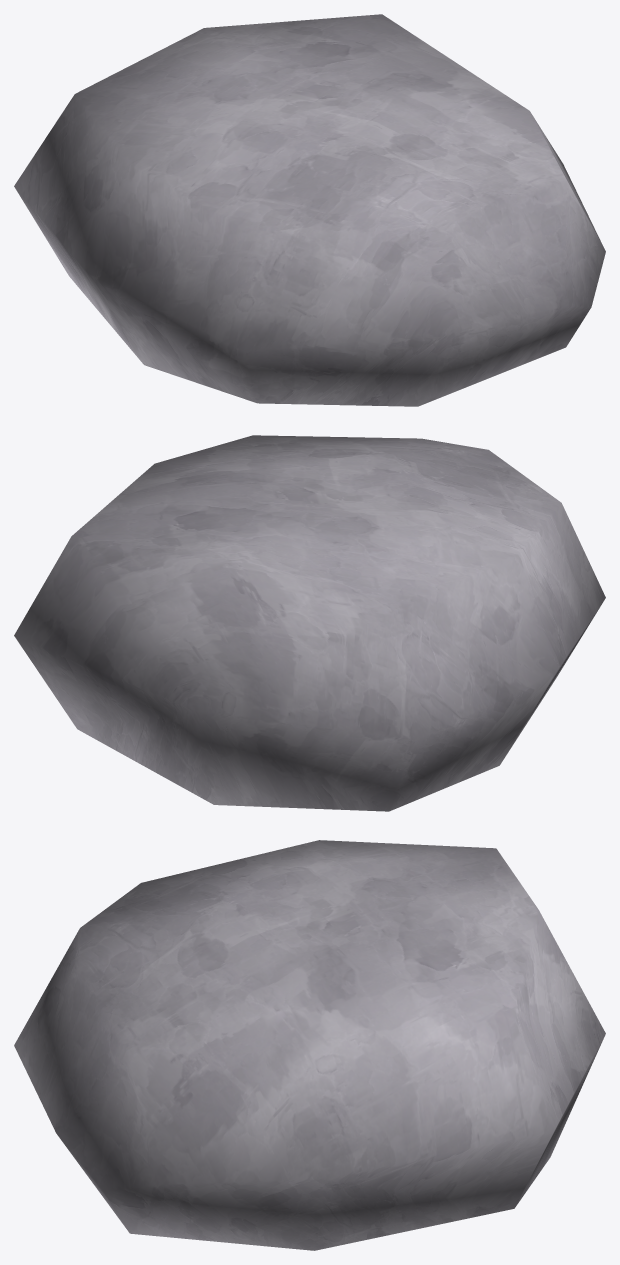
File: Stone_2.fbx
3 renders of one model, top to bottom at view 1: azimuth 30°, elevation 25°; view 2: azimuth 150°, elevation 25°; view 3: azimuth 270°, elevation 25°, orthographic. The views are drawn at different scales.
Visible parts, largest first — view 1: Stone_2; view 2: Stone_2; view 3: Stone_2.
Part boxes in pixels (left/top/right/bottom): Stone_2: left=14, top=14, right=605, bottom=406; Stone_2: left=14, top=435, right=605, bottom=811; Stone_2: left=14, top=840, right=605, bottom=1250.
Size of the model in its own units: 0.8789 by 0.4494 by 0.8906.
